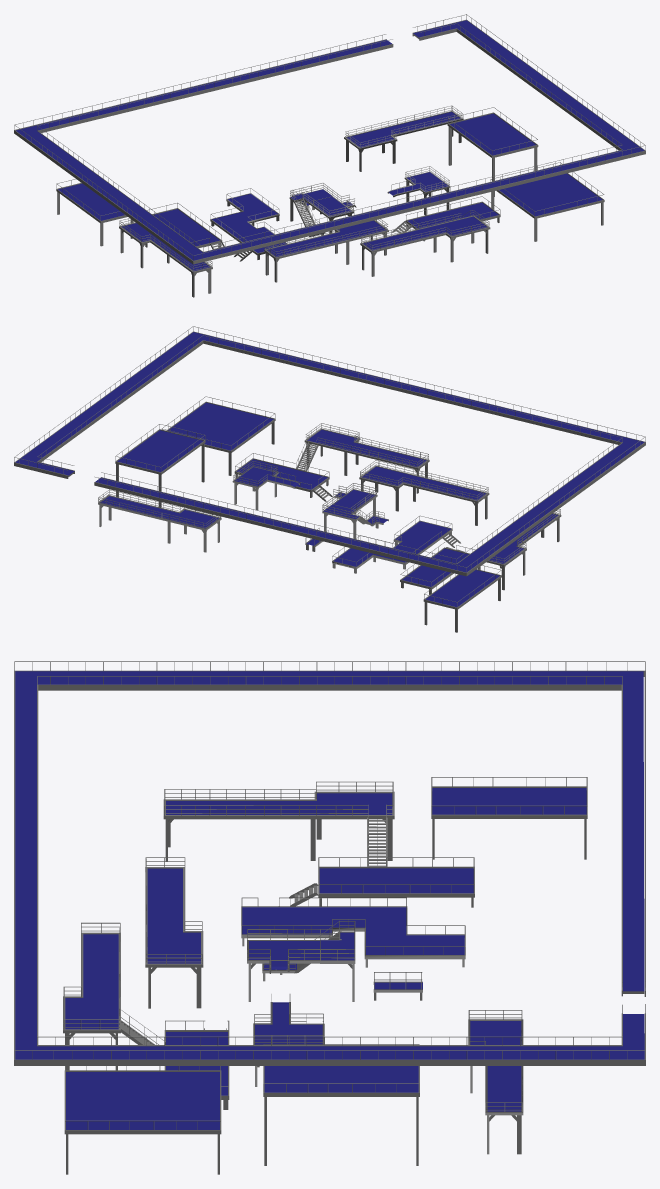
The picture shows the model from 3 angles, top to bottom: view 1: azimuth 30°, elevation 25°; view 2: azimuth 150°, elevation 25°; view 3: azimuth 270°, elevation 25°; orthographic projection. The views are drawn at different scales.
Parts seen in each view (by area): view 1: second_floor, platform_2, Platform_1, Plane001; view 2: second_floor, platform_2, Platform_1, Plane001; view 3: platform_2, second_floor, Plane001, Platform_1.
Boxes of the visible parts, x1=… form: second_floor: x1=14, y1=14, x2=645, y2=264; platform_2: x1=56, y1=107, x2=604, y2=297; Platform_1: x1=210, y1=105, x2=463, y2=261; Plane001: x1=212, y1=112, x2=460, y2=252; second_floor: x1=14, y1=326, x2=645, y2=576; platform_2: x1=115, y1=396, x2=561, y2=632; Platform_1: x1=98, y1=461, x2=460, y2=573; Plane001: x1=100, y1=467, x2=450, y2=566; platform_2: x1=63, y1=777, x2=587, y2=1174; second_floor: x1=14, y1=661, x2=645, y2=1065; Plane001: x1=242, y1=907, x2=521, y2=1111; Platform_1: x1=241, y1=897, x2=523, y2=1154.
Size of the model in its own units: 3445 by 615 by 2362.
